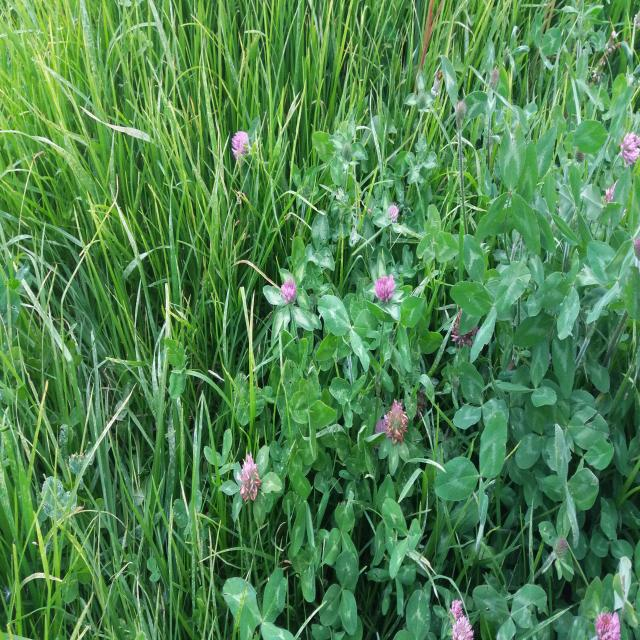Four Leaf Clover: (289, 360, 336, 460)
